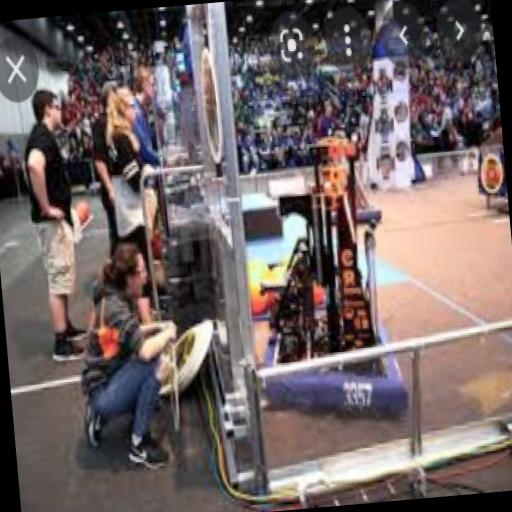robot: (239, 114, 410, 430)
